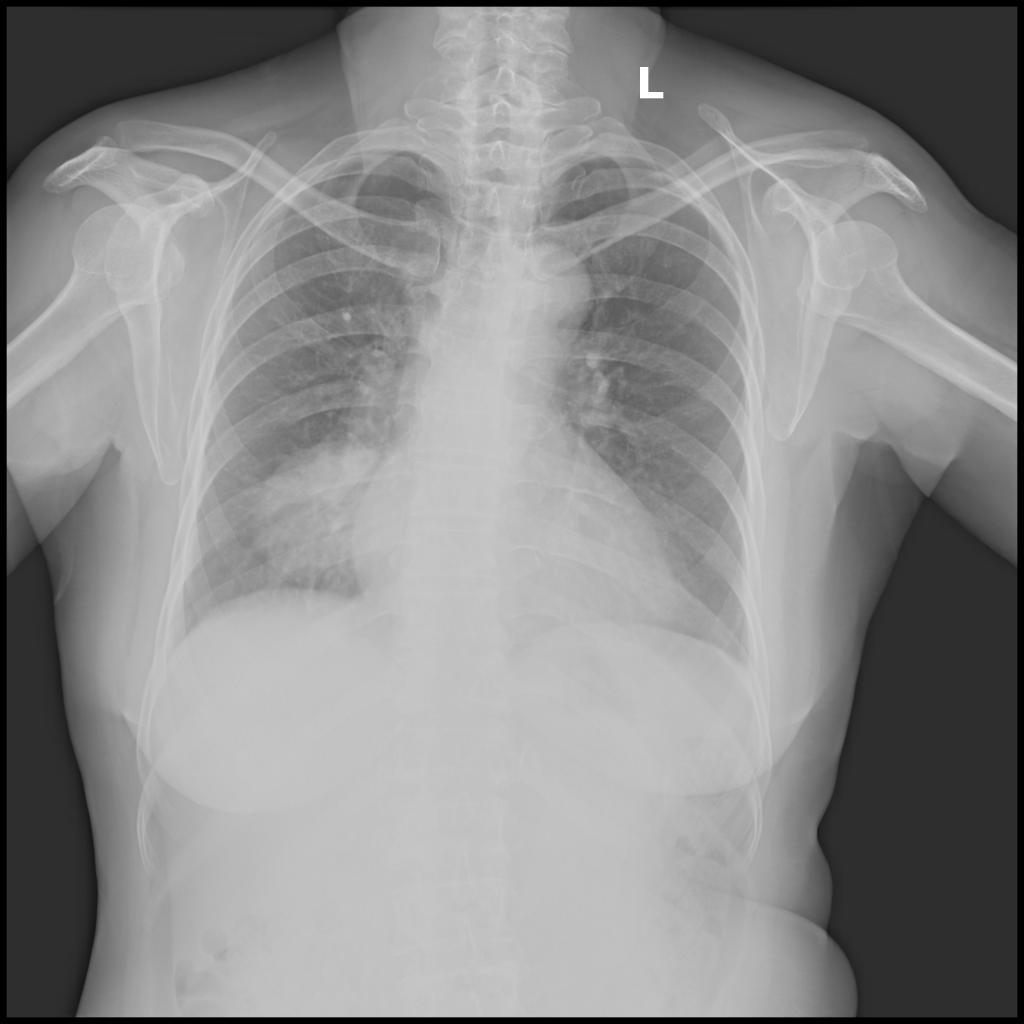Nodule: (254, 442, 401, 583)
